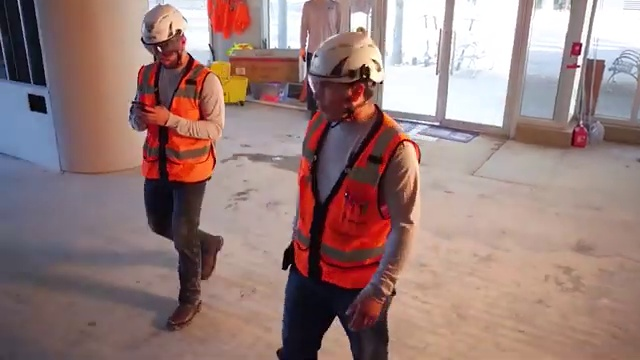helmet: (304, 28, 392, 87), (138, 6, 190, 34)
jacket: (301, 107, 412, 290), (132, 64, 224, 184)
